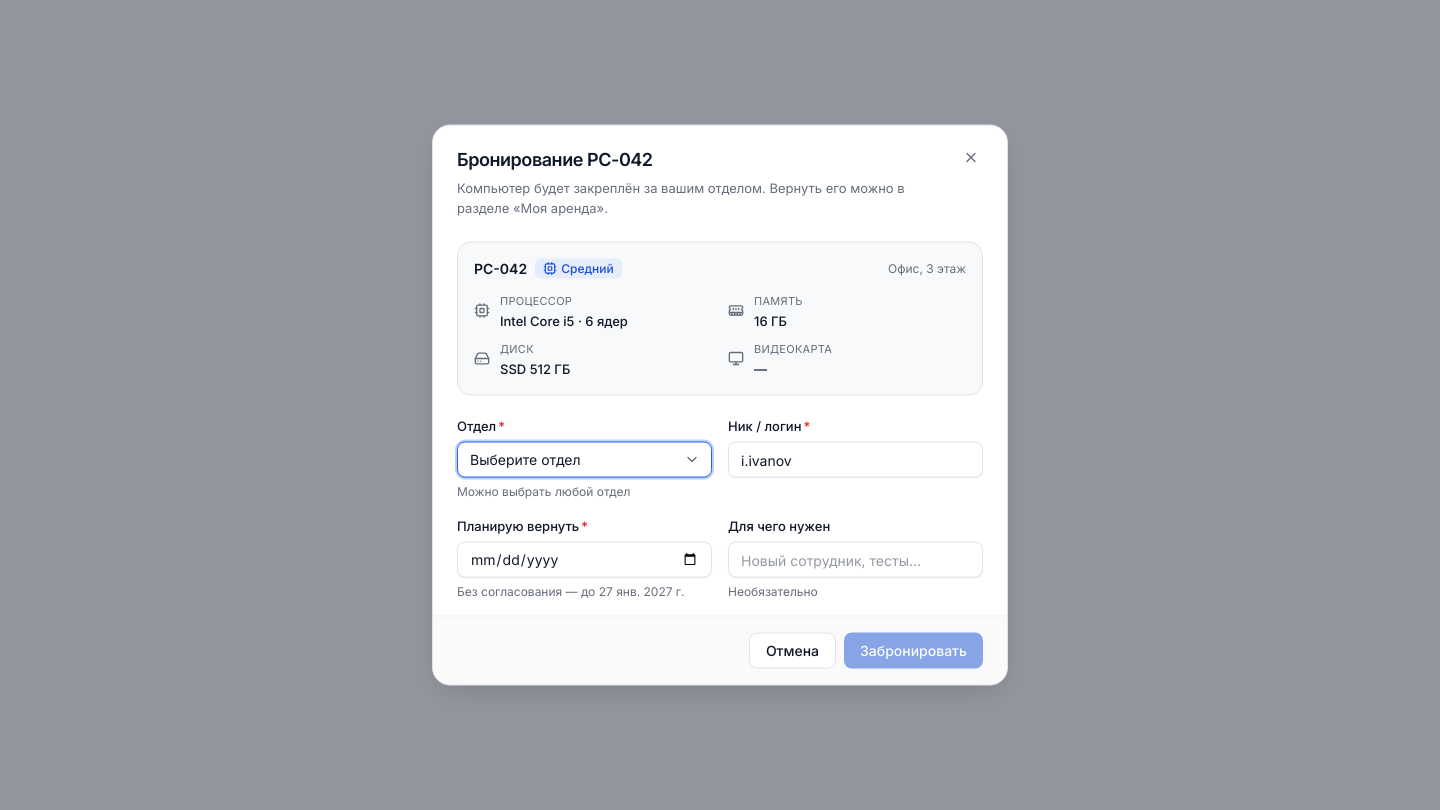
Test: BookingDialog › ошибка API показывается в форме, окно остаётся открытым
The width and height of the screenshot is (1440, 810).
Select "Разработка" in the dropdown labelled "Отдел* Можно выбрать любой отдел" at {"x": 584, "y": 460}, box [457, 442, 712, 478]
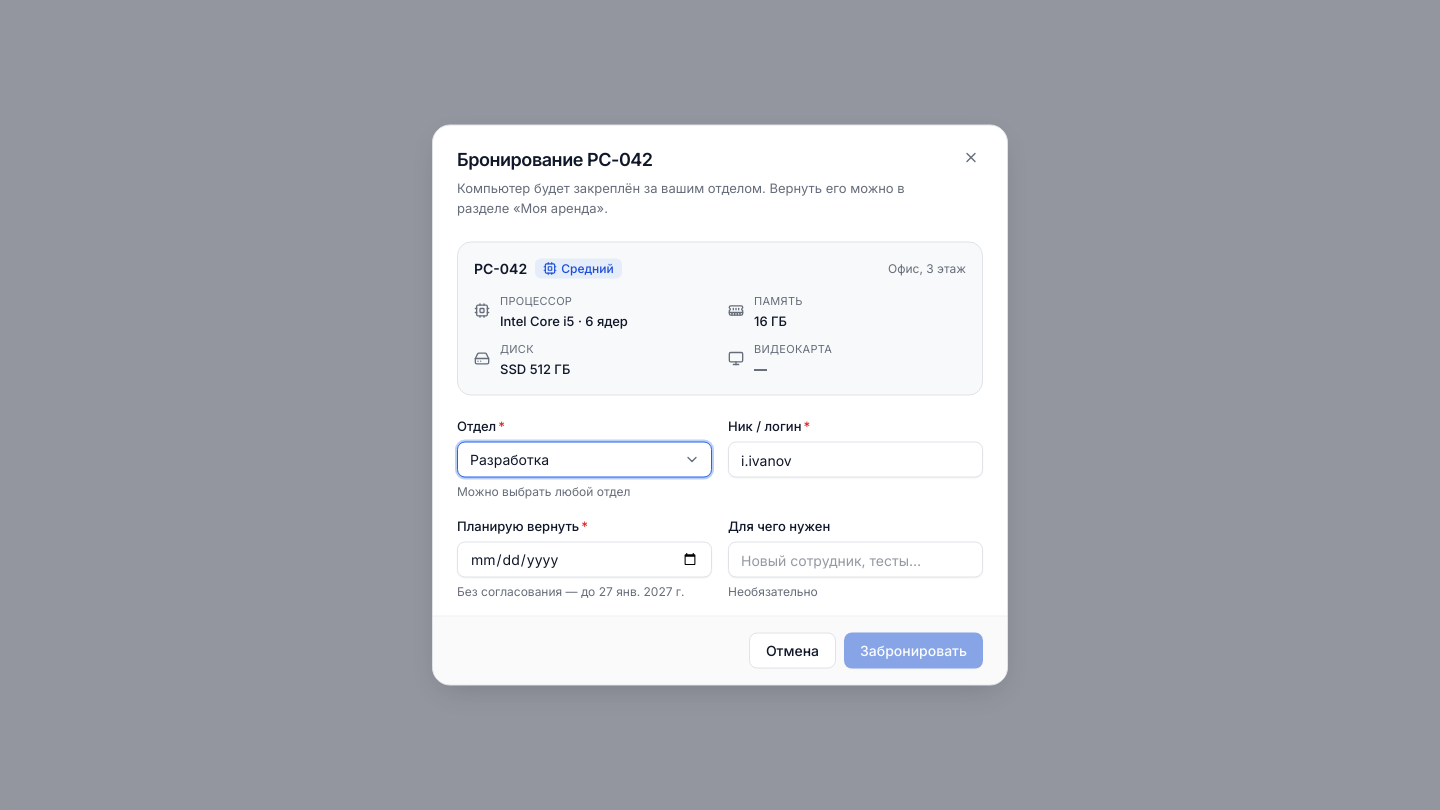
Type "2099-12-31" into the date field labelled "Планирую вернуть".
click(584, 560); type("2099-12-31")  # box [457, 542, 712, 578]
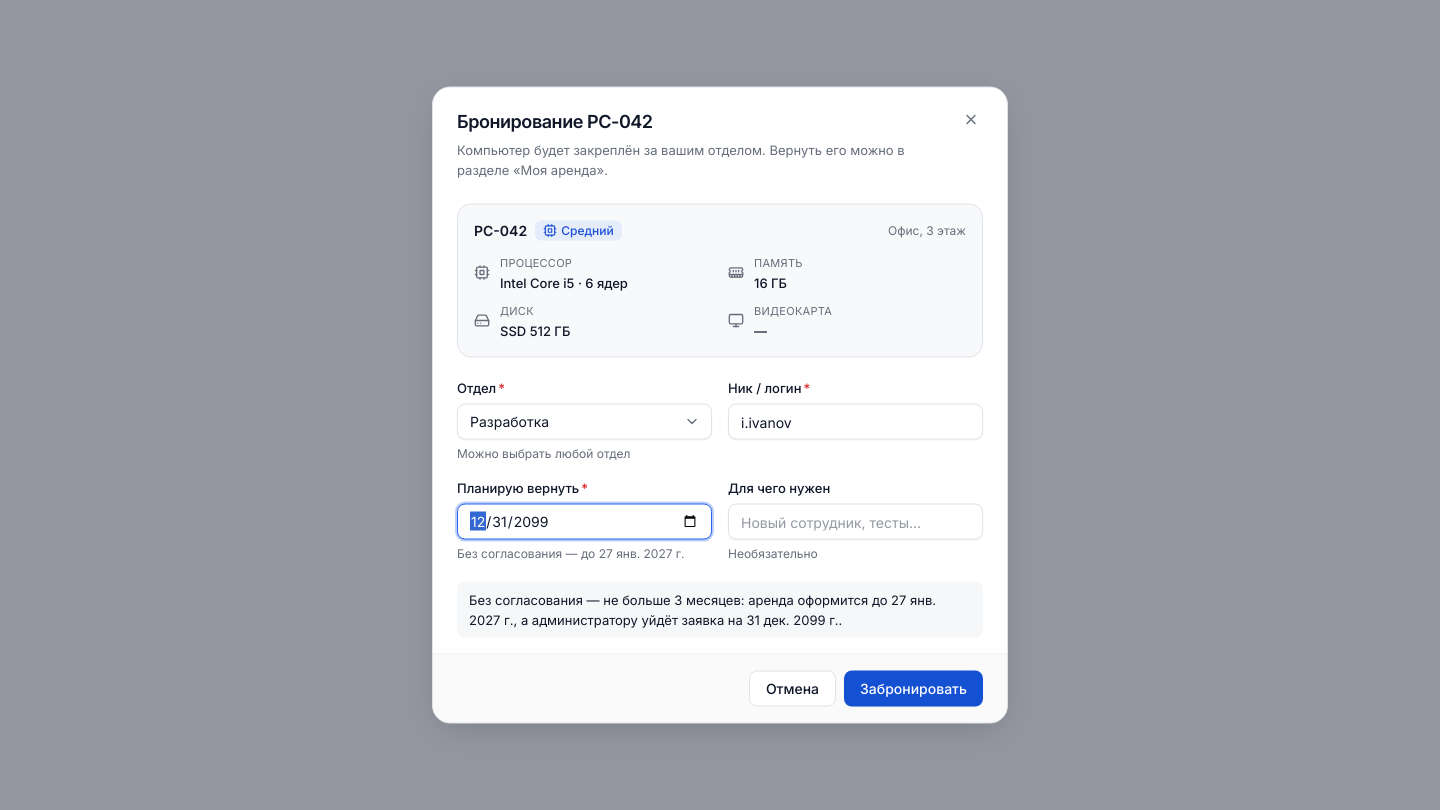
Click the button "Забронировать".
click(914, 688)  # box [844, 670, 983, 706]
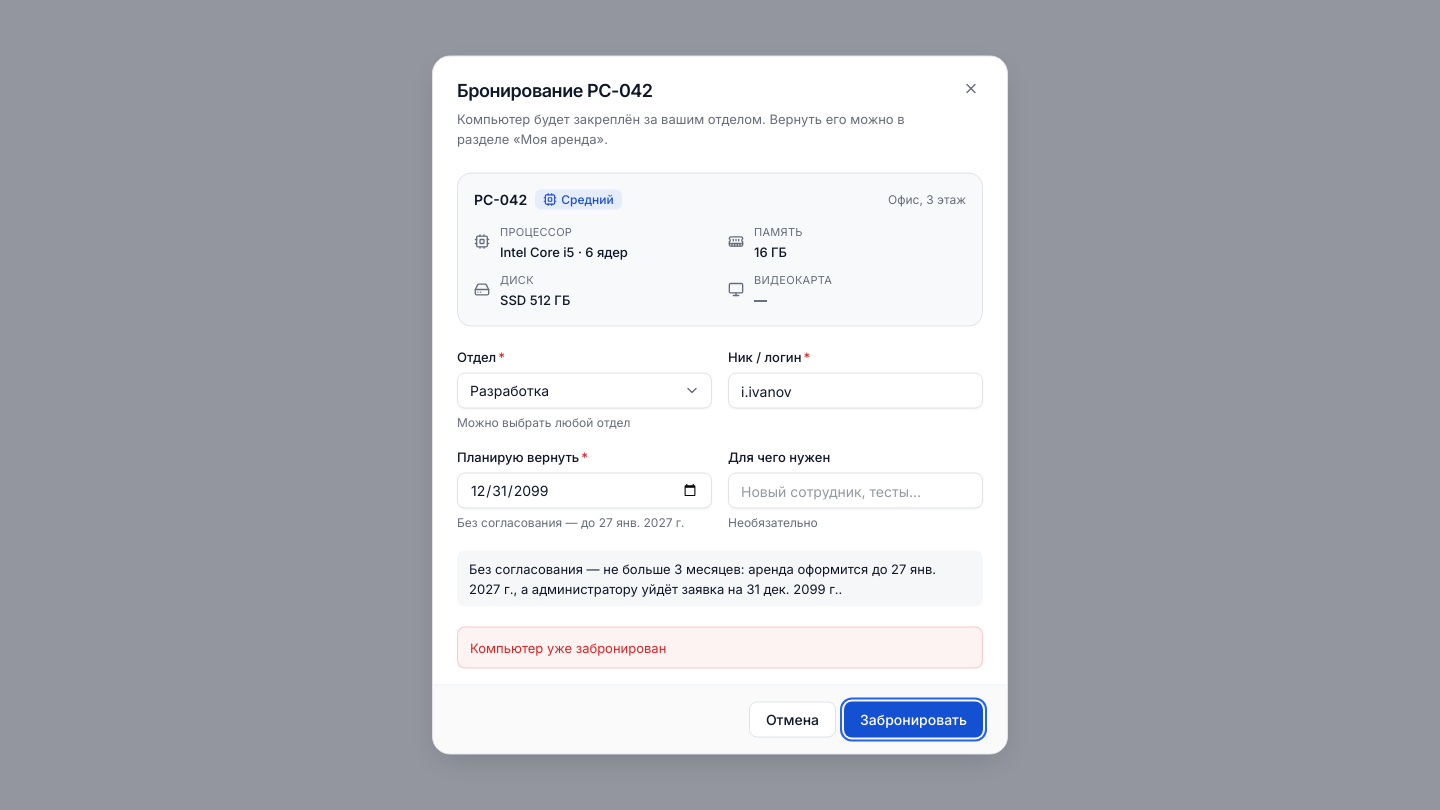
Now the text "Компьютер уже забронирован" is shown, box [457, 626, 983, 668]
